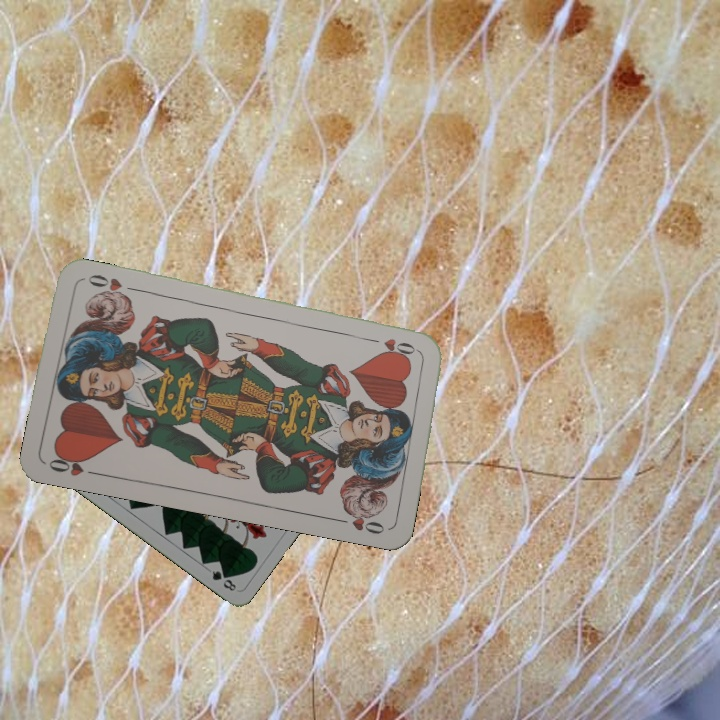HO: (44, 450, 102, 479), (363, 334, 421, 357)
